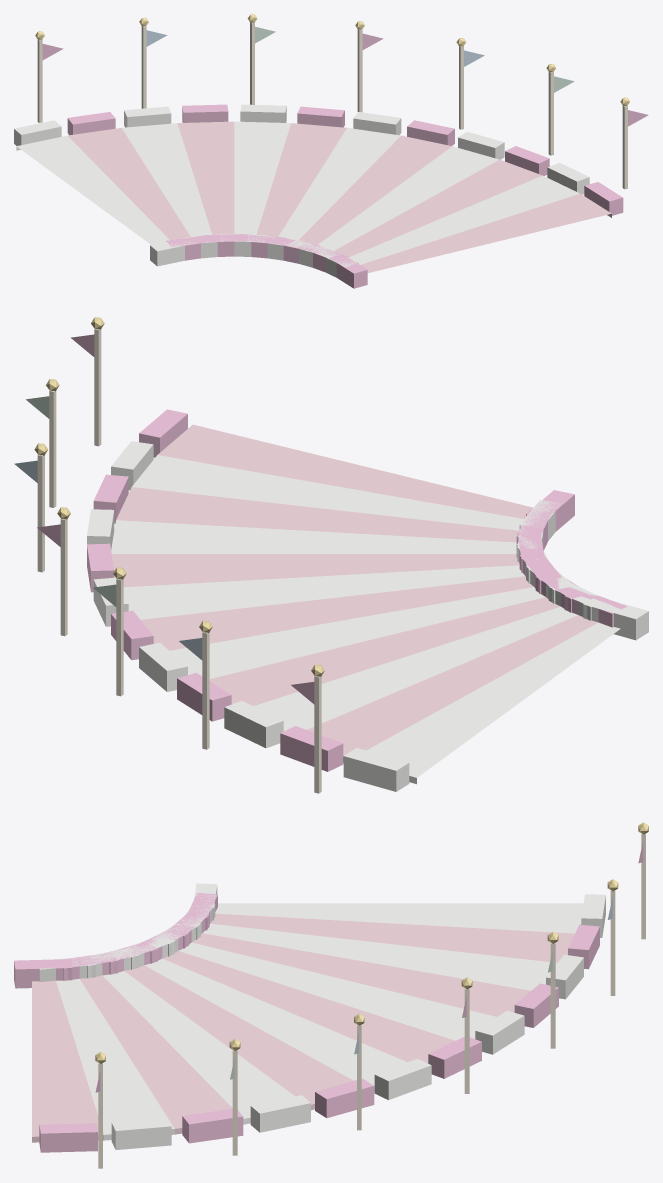
The model's file is draha_zatacka_vlevo.glb.
3 renders of one model, top to bottom at view 1: azimuth 30°, elevation 25°; view 2: azimuth 150°, elevation 25°; view 3: azimuth 270°, elevation 25°, orthographic. The views are drawn at different scales.
Visible parts, largest first — view 1: DrahaZatacka_white, DrahaZatacka_pink, DrahaZatacka_lol, DrahaZatacka_cream, DrahaZatacka_gold; view 2: DrahaZatacka_white, DrahaZatacka_pink, DrahaZatacka_lol, DrahaZatacka_cream, DrahaZatacka_gold; view 3: DrahaZatacka_white, DrahaZatacka_pink, DrahaZatacka_lol, DrahaZatacka_cream, DrahaZatacka_gold.
Part boxes in pixels (box(x1,y1,x2,y2)): DrahaZatacka_white: box(14, 104, 589, 277); DrahaZatacka_pink: box(68, 121, 611, 272); DrahaZatacka_lol: box(42, 33, 648, 288); DrahaZatacka_cream: box(37, 22, 627, 189); DrahaZatacka_gold: box(35, 14, 629, 106); DrahaZatacka_white: box(87, 441, 648, 791); DrahaZatacka_pink: box(111, 424, 598, 762); DrahaZatacka_lol: box(37, 334, 627, 771); DrahaZatacka_cream: box(37, 329, 321, 793); DrahaZatacka_gold: box(34, 317, 324, 676); DrahaZatacka_white: box(39, 883, 605, 1149); DrahaZatacka_pink: box(32, 913, 574, 1142); DrahaZatacka_lol: box(14, 840, 643, 1152); DrahaZatacka_cream: box(98, 833, 645, 1168); DrahaZatacka_gold: box(95, 822, 648, 1063).
Bounding box in the file's own units: 12.57 × 2.42 × 12.07.
